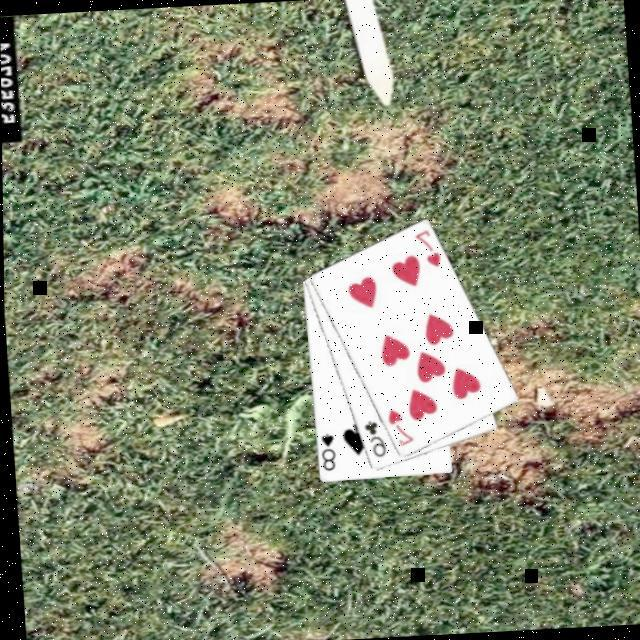7H: (384, 407, 417, 452), (412, 228, 445, 273)
8S: (317, 432, 339, 476)
9C: (360, 419, 389, 463)
